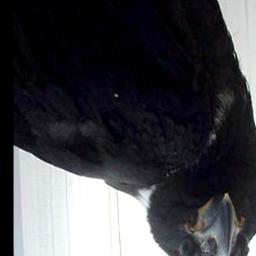Crow: (14, 0, 256, 256)
